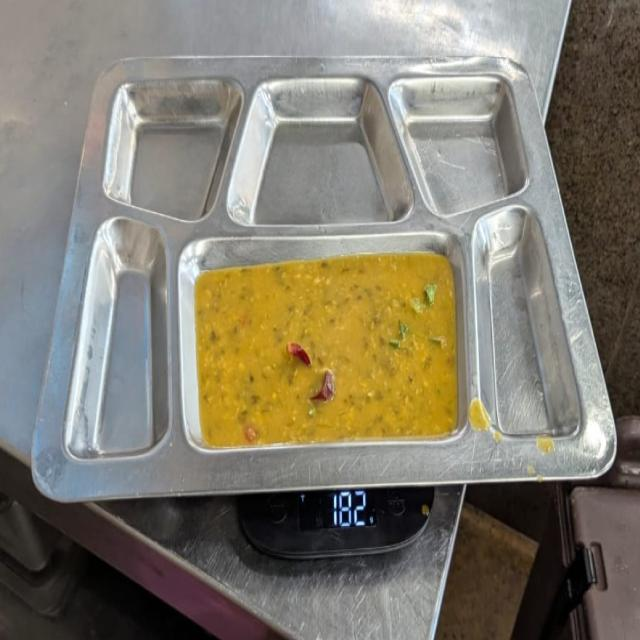Dal: (193, 251, 461, 448)
